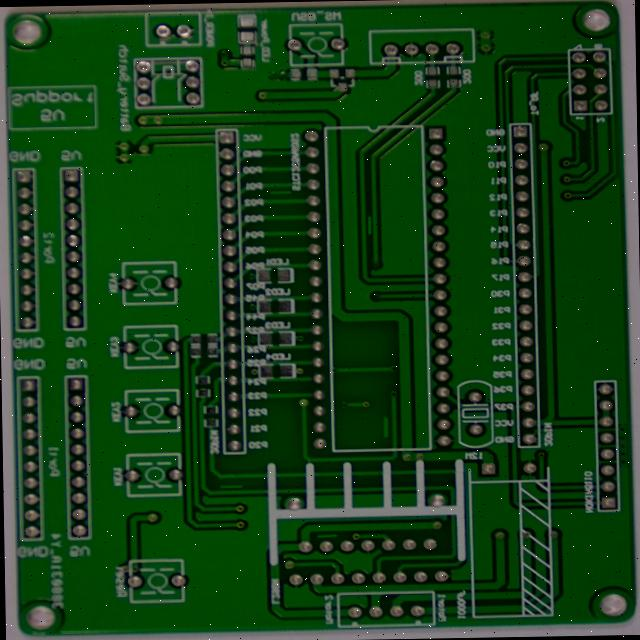spurious_copper: (440, 450, 460, 484), (307, 202, 346, 216), (423, 230, 442, 258), (361, 580, 397, 593), (252, 526, 288, 539)
